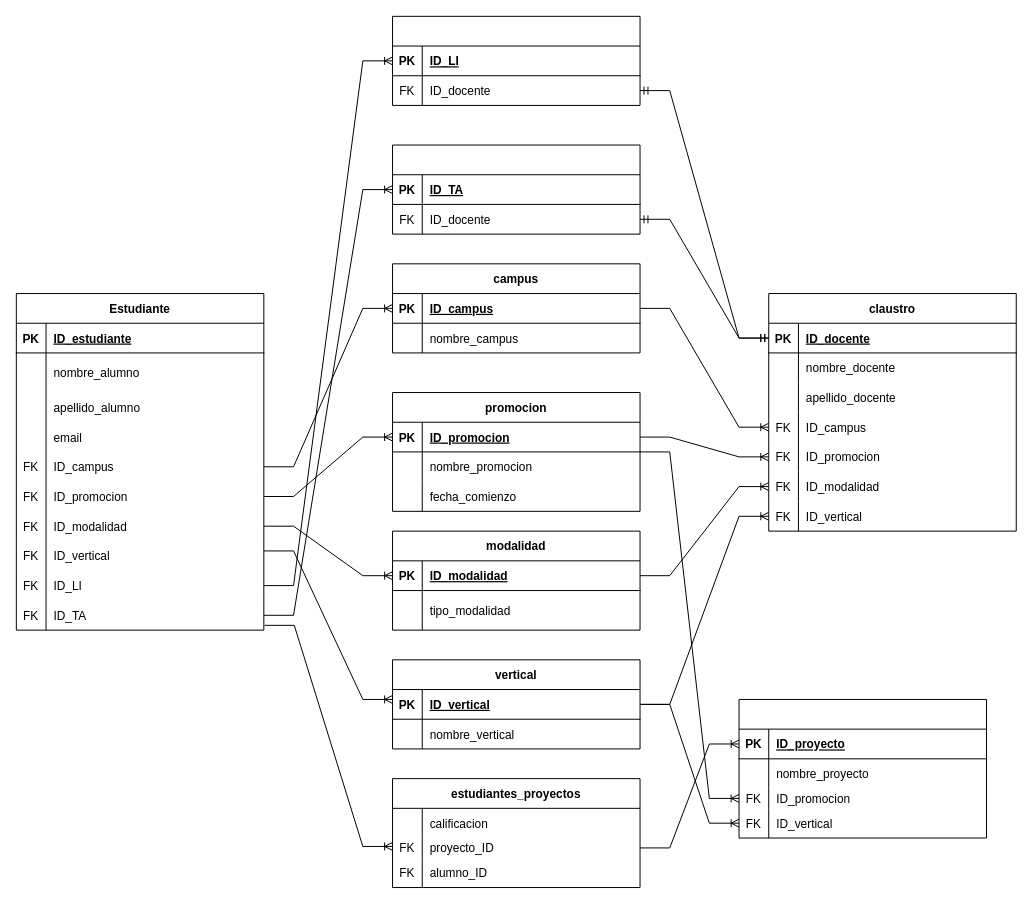
The diagram is 1033 pixels wide and 904 high, and some of its shapes have lost their labels. Each missing label, with the box of its shape:
Lead Instructor: (392, 15, 640, 105)
proyectos: (738, 698, 987, 838)
Teacher Assistant: (392, 144, 640, 234)
